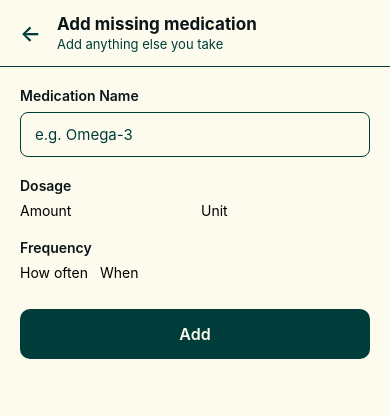
Test: AddMissingMedicationScreen — US 12: Add Missing Medications › shows dosage errors but not a name error when only the name is provided
Type "Vitamin C" into the field with placeholder "e.g. Omega-3" at (195, 134), box [20, 112, 370, 157]
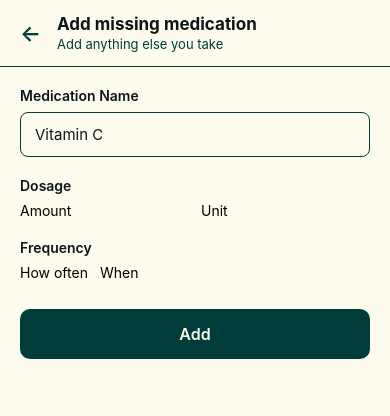
Click the text "Add" at (195, 334), box [179, 324, 211, 344]
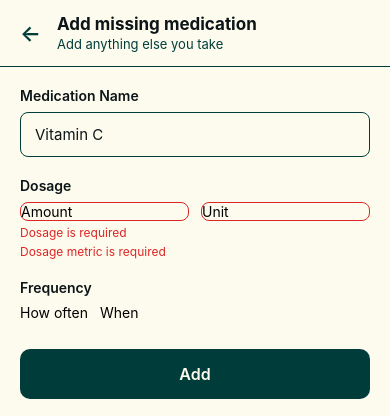
Expected: the text "Dosage is required" is shown, [20, 225, 127, 240]
Expected: the text "Dosage metric is required" is shown, [20, 244, 166, 259]
